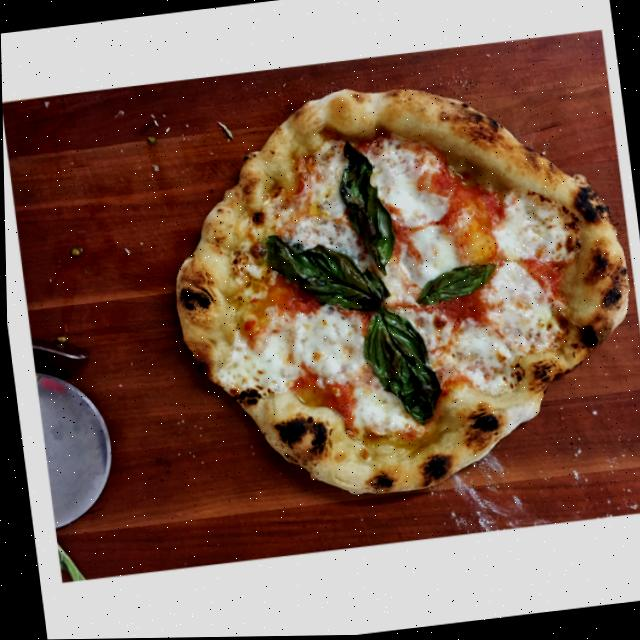basil: (260, 223, 389, 326), (350, 305, 440, 429), (330, 137, 397, 280), (407, 258, 500, 310)
pizza: (147, 56, 640, 514)
